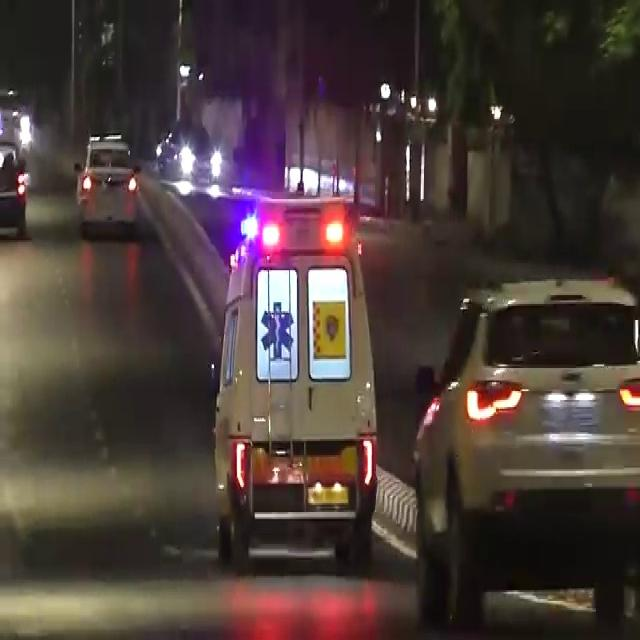ambulance: (215, 188, 380, 531)
